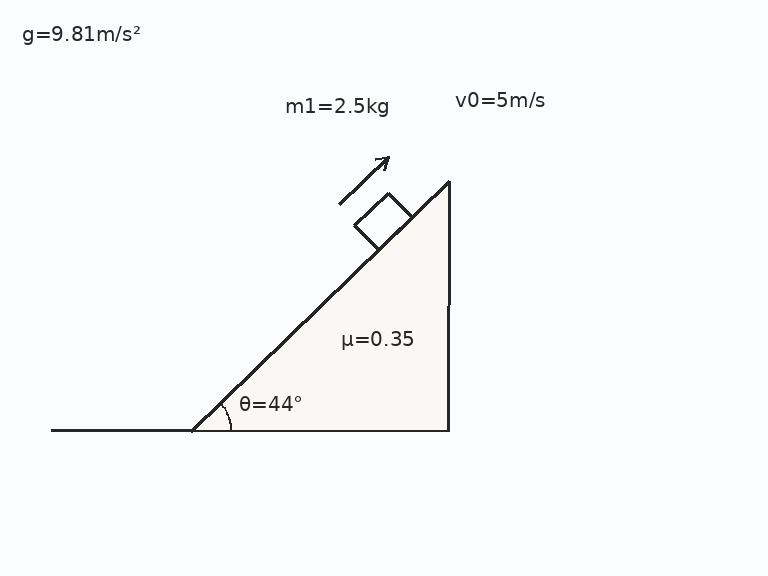block: (353, 190, 414, 251)
ramp: (189, 179, 451, 432)
